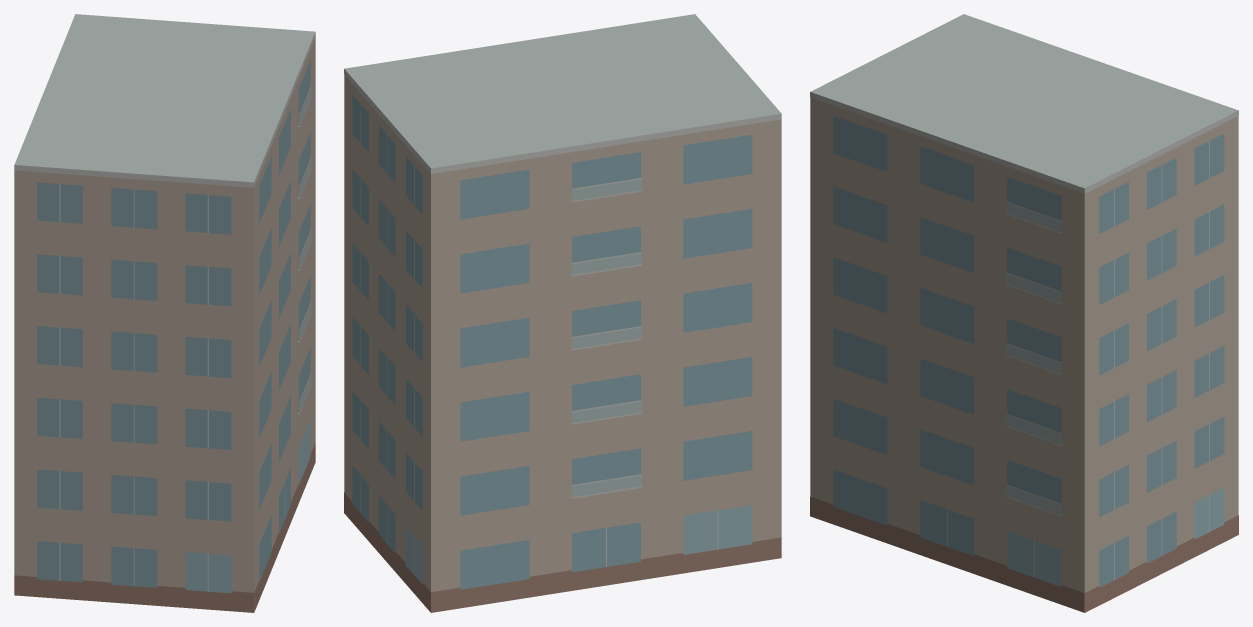
The model's file is survey-upis-32905625.glb.
The picture shows the model from 3 angles, left to right: view 1: azimuth 30°, elevation 25°; view 2: azimuth 150°, elevation 25°; view 3: azimuth 270°, elevation 25°; orthographic projection. The views are drawn at different scales.
Parts seen in each view (by area): view 1: survey-upis-32905625.tmp; view 2: survey-upis-32905625.tmp; view 3: survey-upis-32905625.tmp.
Boxes of the visible parts, left/top/right/bottom form: survey-upis-32905625.tmp: left=14, top=14, right=315, bottom=612; survey-upis-32905625.tmp: left=344, top=14, right=781, bottom=612; survey-upis-32905625.tmp: left=810, top=14, right=1238, bottom=612.
Size of the model in its own units: 16.84 by 19.1 by 17.49.
